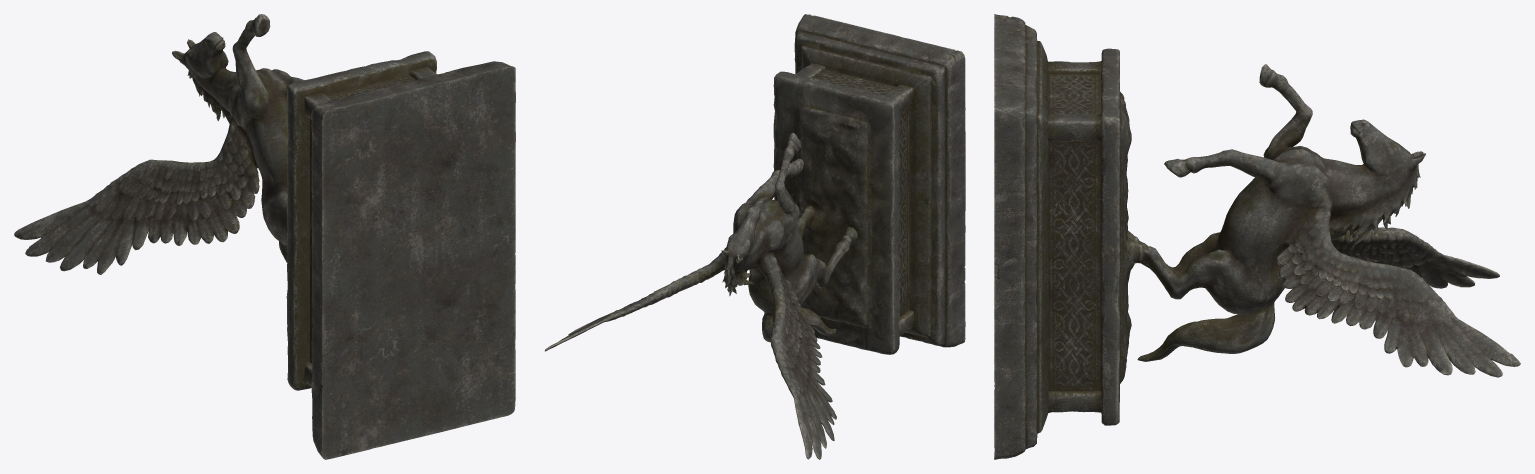
File: Pegasus_statue.fbx
The picture shows the model from 3 angles, left to right: view 1: azimuth 30°, elevation 25°; view 2: azimuth 150°, elevation 25°; view 3: azimuth 270°, elevation 25°; orthographic projection. The views are drawn at different scales.
Visible parts, largest first — view 1: Object003, Object001; view 2: Object003, Object001; view 3: Object003, Object001.
Part boxes in pixels (bbox=[...]): Object003: bbox=[286, 51, 515, 459]; Object001: bbox=[14, 14, 304, 274]; Object003: bbox=[773, 14, 965, 354]; Object001: bbox=[545, 133, 857, 459]; Object003: bbox=[994, 14, 1134, 459]; Object001: bbox=[1126, 64, 1520, 377].
Size of the model in its own units: 45.09 by 47.77 by 64.19.
